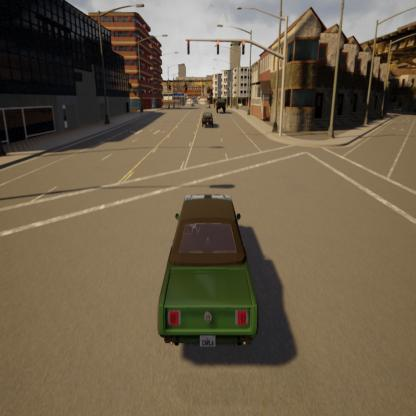Cars: (143, 184, 272, 363), (200, 105, 217, 135), (214, 94, 228, 116)
